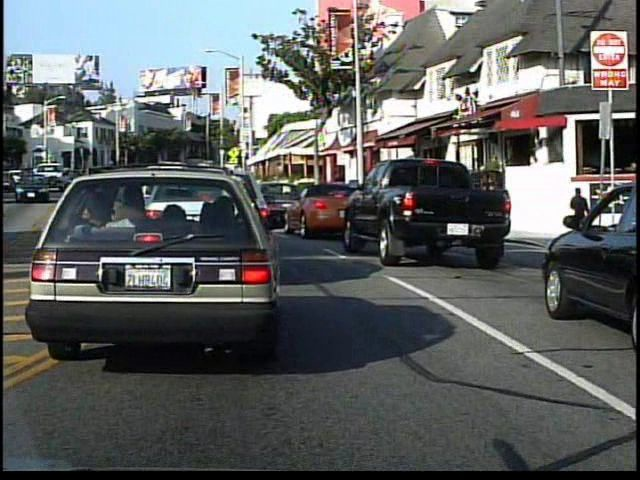person: (482, 152, 503, 172)
